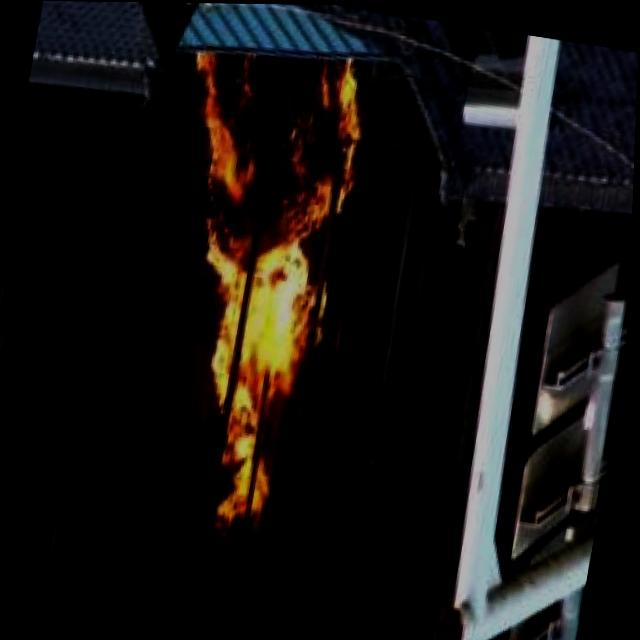Fire: (124, 41, 376, 538)
